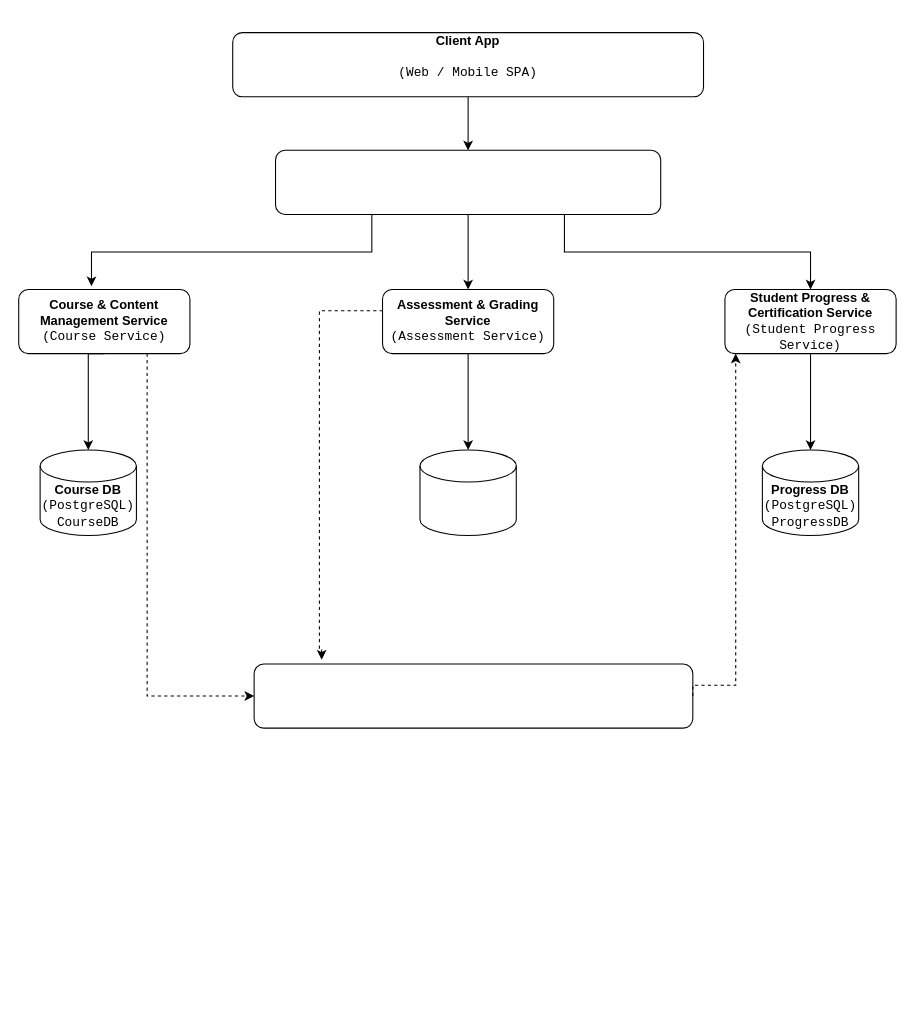
Some shapes in this 915 by 1014 pixel diagram are drawn without their labels. Each missing label, with the centre of its shape:
"API Gateway (HTTP/REST)" belongs at (x=467, y=182).
"Assessment DB (PostgreSQL) AssessmentDB" belongs at (x=467, y=492).
"MESSAGE BROKER (RabbitMQ)" belongs at (x=473, y=695).
